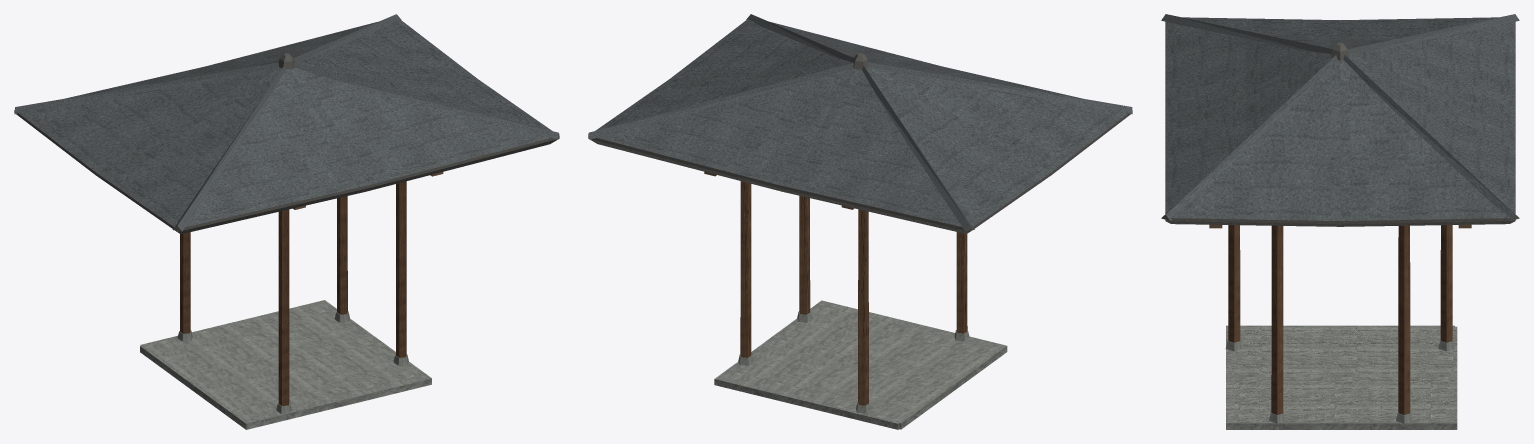
File: GalleryCorner_LOD2.fbx
The picture shows the model from 3 angles, left to right: view 1: azimuth 30°, elevation 25°; view 2: azimuth 150°, elevation 25°; view 3: azimuth 270°, elevation 25°; orthographic projection. The views are drawn at different scales.
Visible parts, largest first — view 1: GalleryCorner.001; view 2: GalleryCorner.001; view 3: GalleryCorner.001.
Boxes of the visible parts, <box> form: GalleryCorner.001: <box>14,14,559,429</box>; GalleryCorner.001: <box>588,14,1132,429</box>; GalleryCorner.001: <box>1161,14,1519,429</box>.
Size of the model in its own units: 6.19 by 4.79 by 4.61.
1 material, 1 textured.
